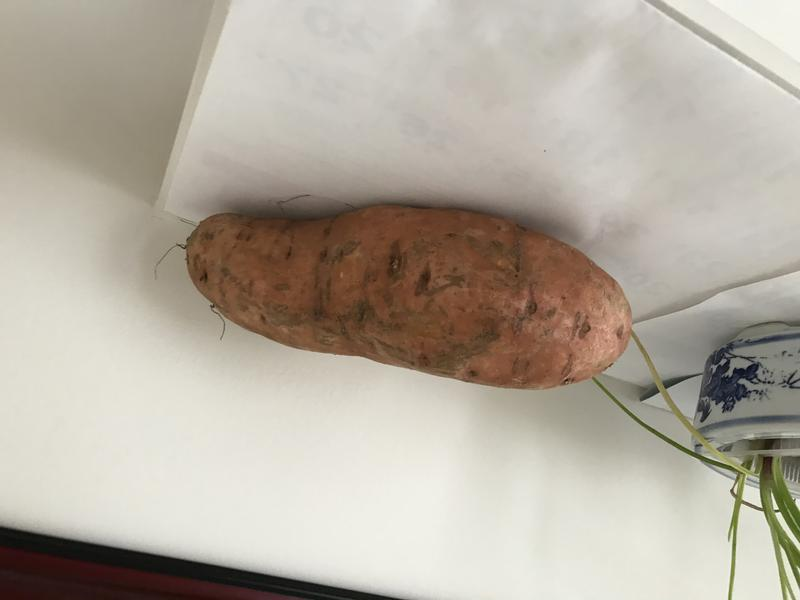sweet_potato: (166, 195, 642, 405)
